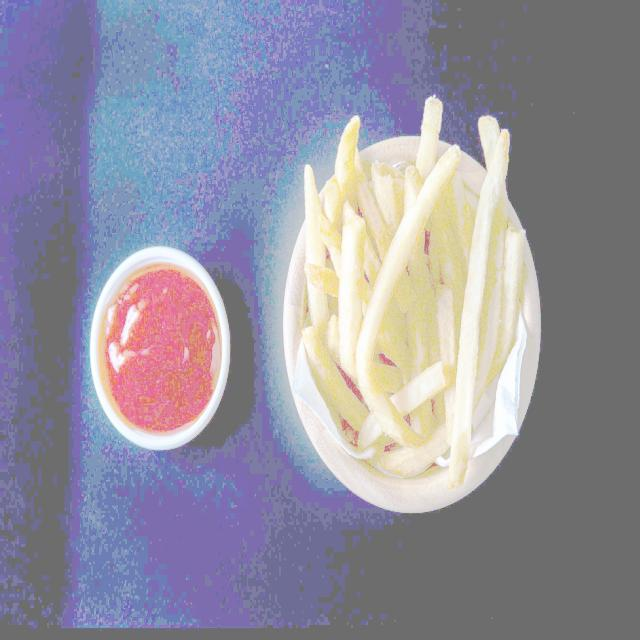french fries: (305, 95, 525, 494)
ketchup: (93, 253, 228, 448)
